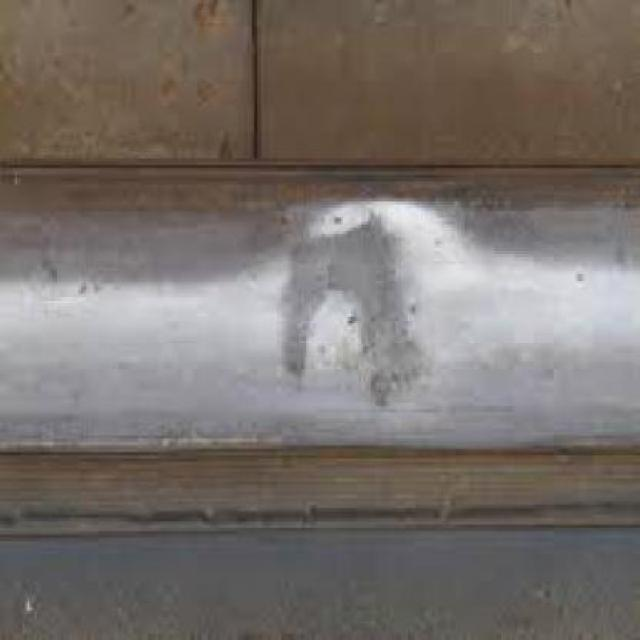defective: (221, 152, 509, 528)
